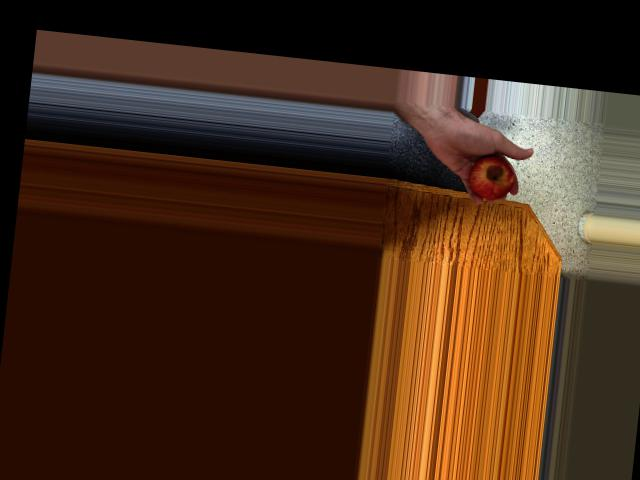apple: (461, 147, 519, 201)
